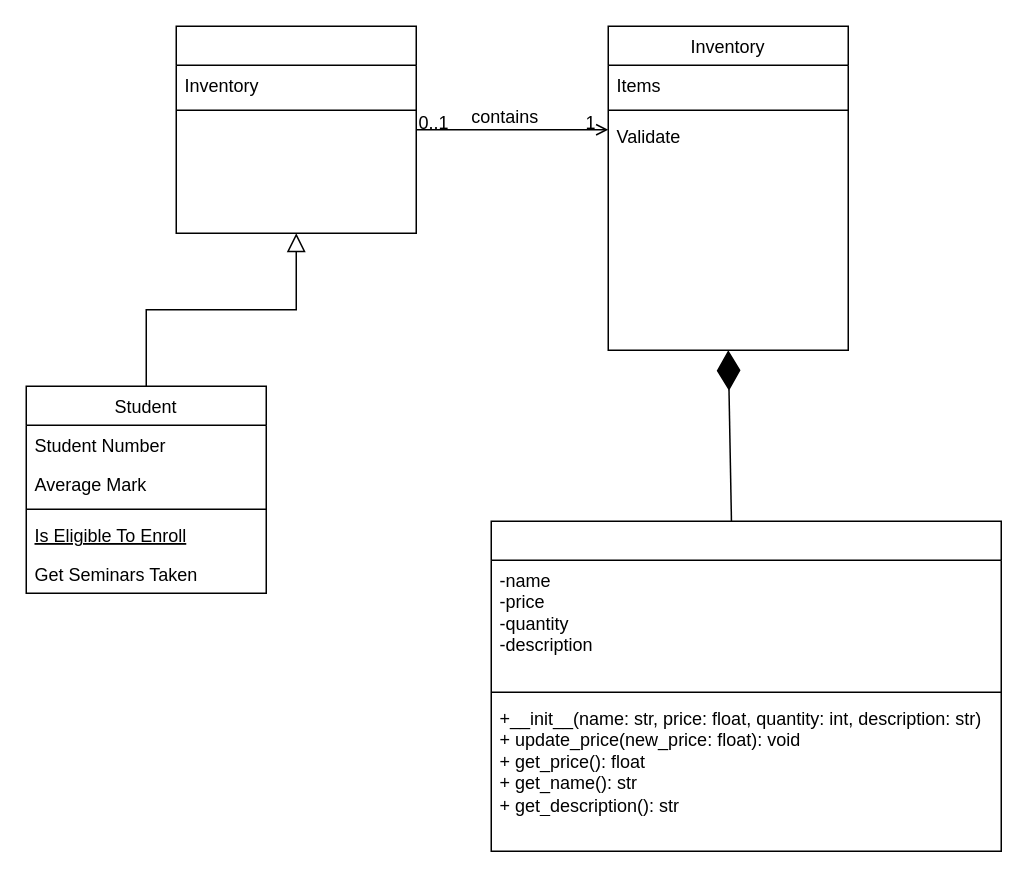
The diagram is 1028 pixels wide and 882 high, and some of its shapes have lost their labels. The box of each missing label's shape, as (x1, y1, x2, y2) in pixels:
ItemGeneric: (490, 520, 1001, 851)
Player: (175, 25, 416, 233)
